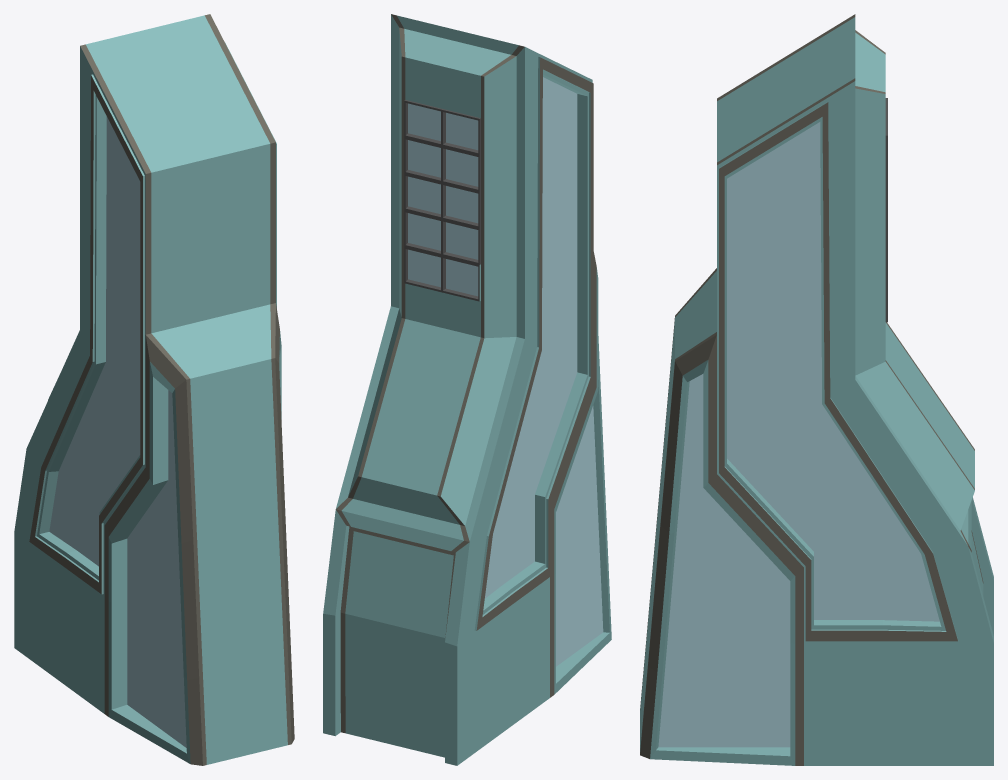
Rendered from Gedung3New.fbx.
3 renders of one model, left to right at view 1: azimuth 30°, elevation 25°; view 2: azimuth 150°, elevation 25°; view 3: azimuth 270°, elevation 25°, orthographic. The views are drawn at different scales.
Parts seen in each view (by area): view 1: Cube.012; view 2: Cube.012; view 3: Cube.012.
Boxes of the visible parts, left/top/right/bottom form: Cube.012: left=14, top=14, right=294, bottom=765; Cube.012: left=323, top=14, right=611, bottom=765; Cube.012: left=640, top=14, right=993, bottom=765.
Bounding box in the file's own units: 469 × 2174 × 1018.
